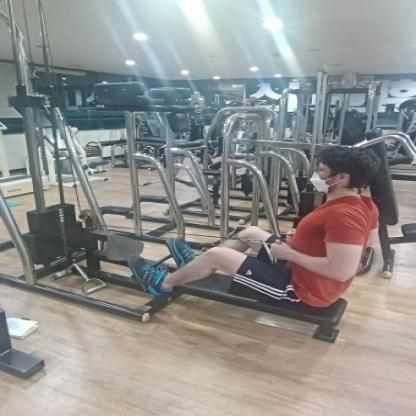Seated Cable Rows: (0, 7, 416, 342)
